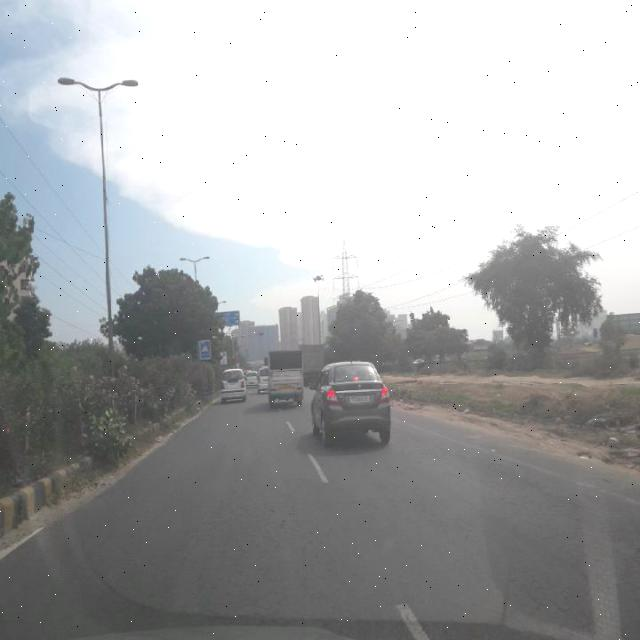D20: (71, 466, 373, 629), (438, 456, 638, 635)
D44: (517, 461, 640, 506)
